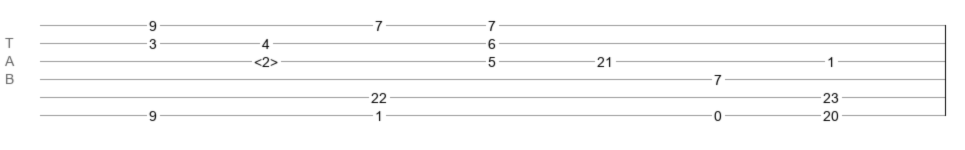0: (714, 108, 722, 118)
1: (375, 108, 383, 118), (827, 54, 835, 64)
20: (823, 108, 839, 118)
21: (597, 54, 613, 64)
22: (371, 90, 387, 100)
23: (823, 90, 839, 100)
3: (149, 36, 157, 46)
4: (262, 36, 270, 46)
5: (488, 54, 496, 64)
6: (488, 36, 496, 46)
7: (375, 18, 383, 28), (488, 18, 496, 28), (714, 72, 722, 82)
9: (149, 18, 157, 28), (149, 108, 157, 118)
harmonic: (254, 54, 278, 64)
